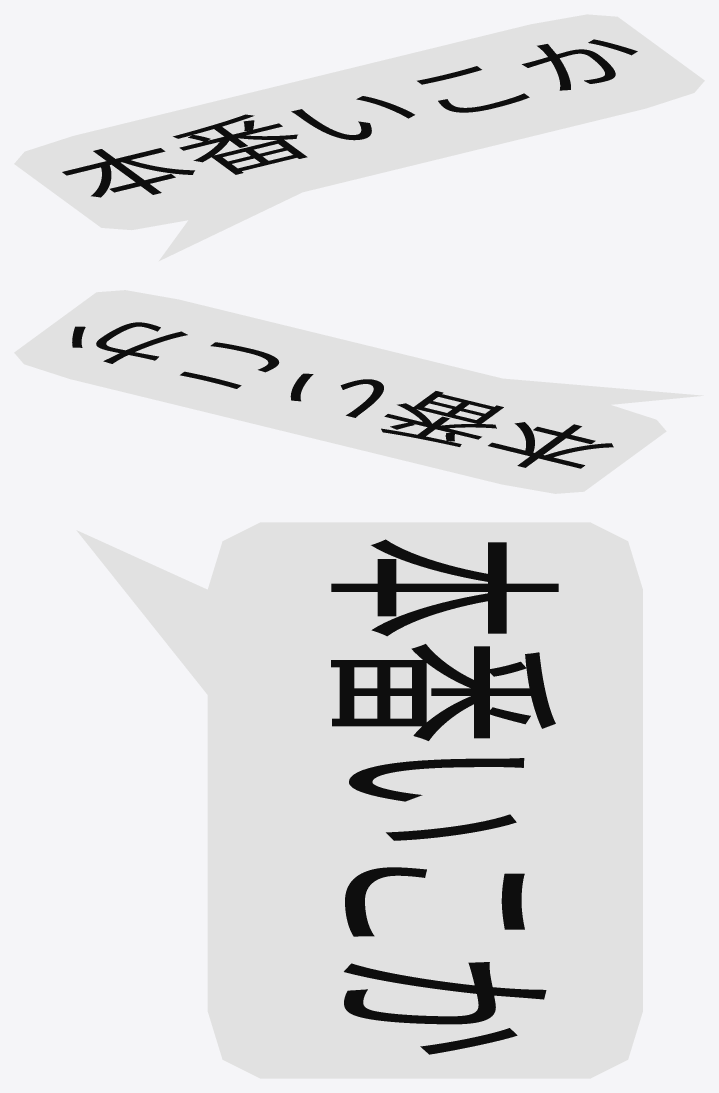
File: Message2.obj
3 renders of one model, top to bottom at view 1: azimuth 30°, elevation 25°; view 2: azimuth 150°, elevation 25°; view 3: azimuth 270°, elevation 25°, orthographic. The views are drawn at different scales.
Parts seen in each view (by area): view 1: 平面, テキスト; view 2: 平面, テキスト; view 3: 平面, テキスト.
Part boxes in pixels (box(x1,y1,x2,y2)): 平面: box(14, 14, 704, 261); テキスト: box(62, 39, 637, 197); 平面: box(14, 290, 703, 493); テキスト: box(72, 322, 613, 468); 平面: box(76, 522, 642, 1078); テキスト: box(331, 539, 558, 1054).
Bounding box in the file's own units: 5.32 × 0.0159 × 2.29.
